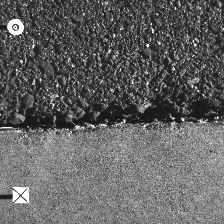circle: (6, 18, 25, 36)
crack: (1, 112, 223, 132)
square: (12, 187, 29, 203)
